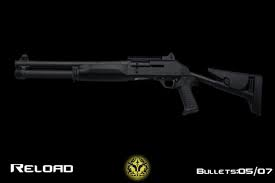gun: (11, 47, 264, 126)
